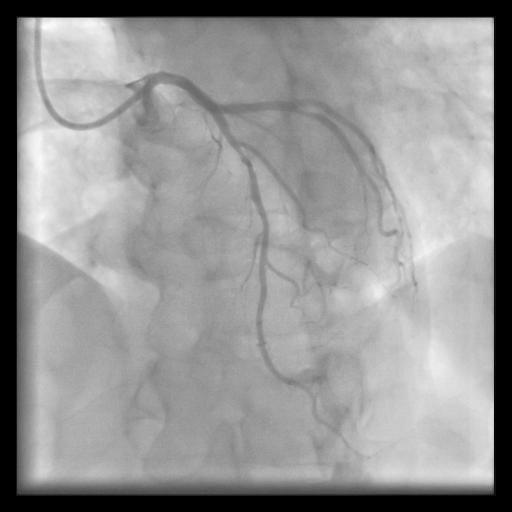Stenosis: (234, 141, 256, 195)
